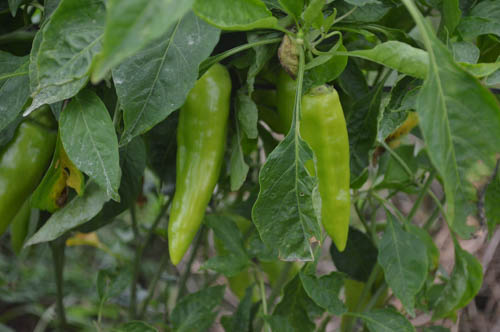ChiliPepper: (278, 75, 351, 254), (168, 68, 233, 262), (3, 122, 56, 222)
